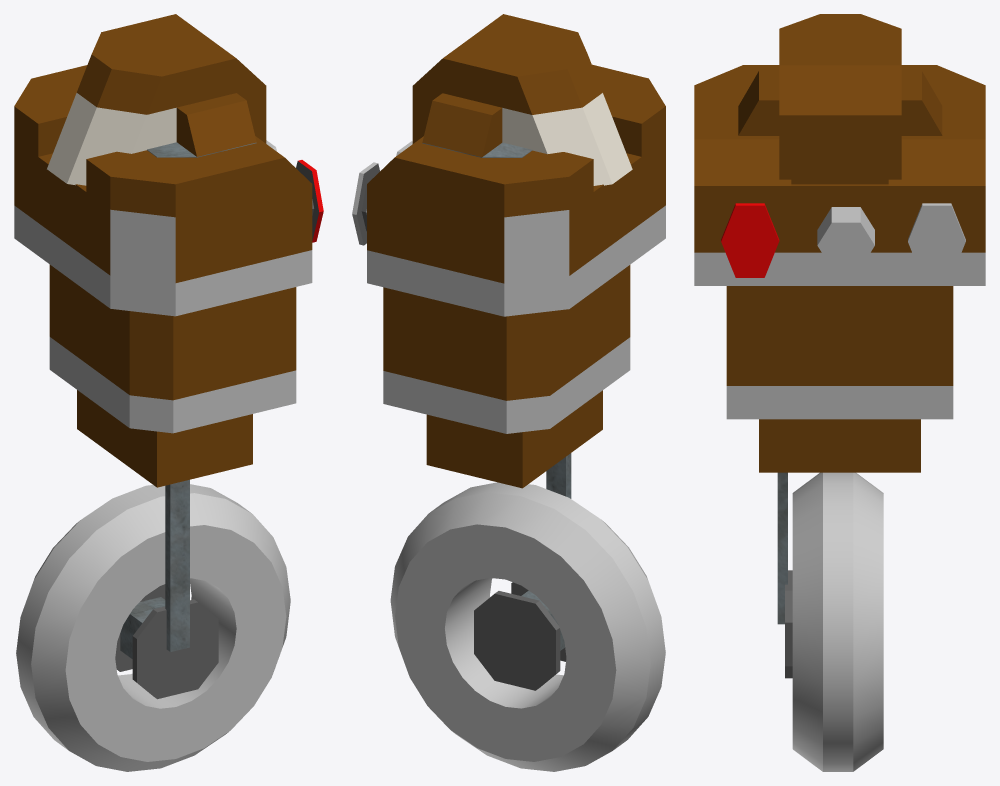
The model's file is robot.fbx.
The picture shows the model from 3 angles, left to right: view 1: azimuth 30°, elevation 25°; view 2: azimuth 150°, elevation 25°; view 3: azimuth 270°, elevation 25°; orthographic projection.
Parts seen in each view (by area): view 1: mergedBlocks; view 2: mergedBlocks; view 3: mergedBlocks.
Part boxes in pixels (x1,y1,x2,y2): mergedBlocks: (14, 14, 323, 771); mergedBlocks: (352, 14, 665, 771); mergedBlocks: (694, 14, 985, 771).
Bounding box in the file's own units: 4 × 10.49 × 3.85.
